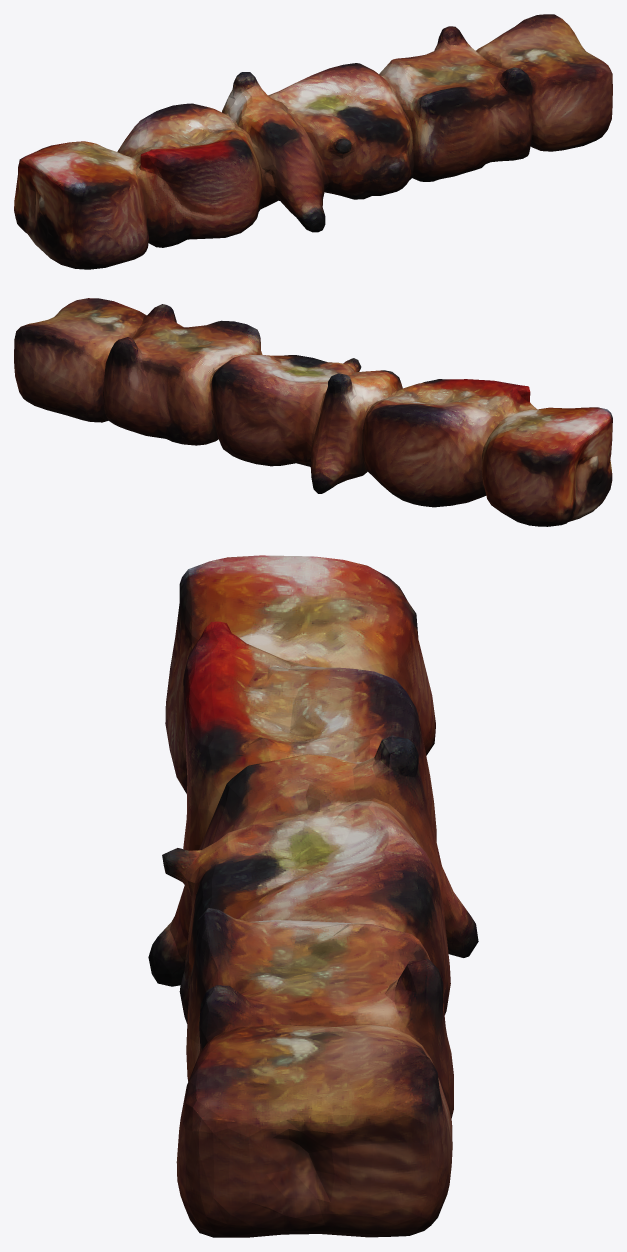
File: carne.glb
3 renders of one model, top to bottom at view 1: azimuth 30°, elevation 25°; view 2: azimuth 150°, elevation 25°; view 3: azimuth 270°, elevation 25°, orthographic. The views are drawn at different scales.
Parts seen in each view (by area): view 1: escala-real; view 2: escala-real; view 3: escala-real.
Boxes of the visible parts, <box> form: escala-real: <box>14,14,612,269</box>; escala-real: <box>14,298,612,526</box>; escala-real: <box>148,555,478,1237</box>.
Bounding box in the file's own units: 0.3 × 0.0606 × 0.0782.
Materials: 1 (1 with a texture image).
